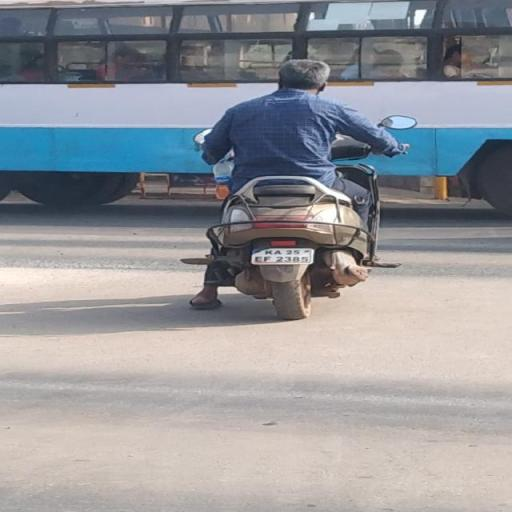bike: (181, 54, 424, 324)
numberplate: (251, 248, 314, 263)
withouthelmet: (281, 60, 329, 90)
